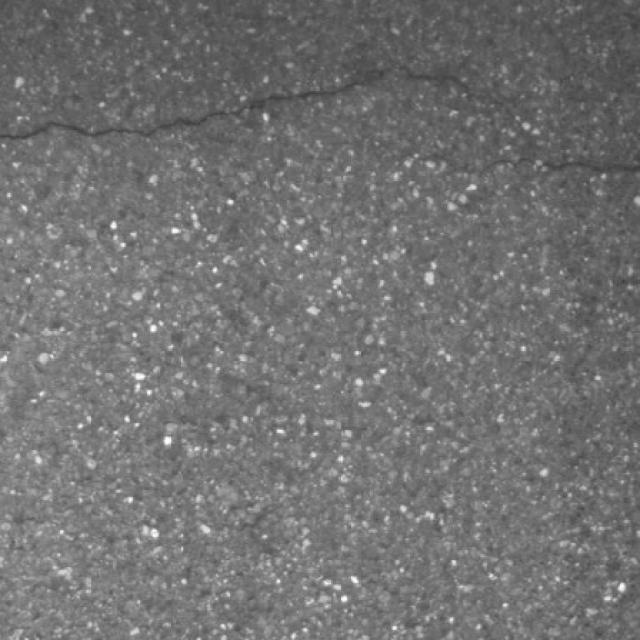Alligator Crack: (0, 65, 640, 174)
